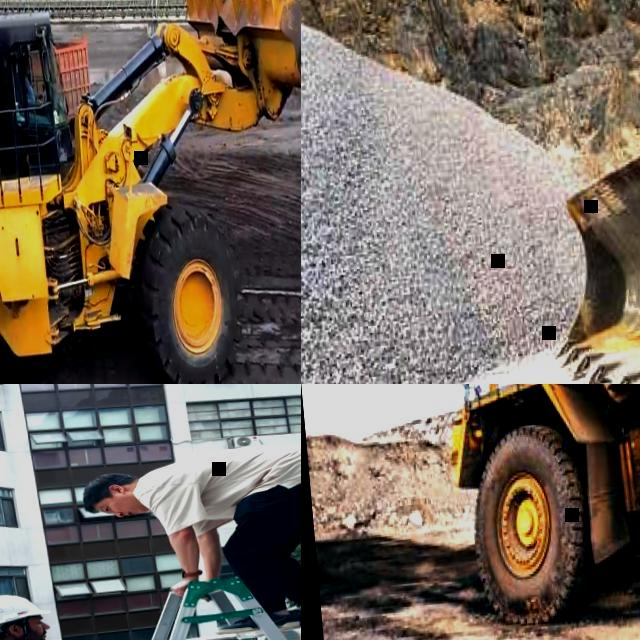helmet: (0, 588, 49, 631)
machinery: (0, 0, 301, 384), (417, 384, 640, 640), (539, 21, 640, 384), (0, 12, 102, 150)
no_helmet: (79, 470, 124, 510), (22, 53, 31, 64)
no_mask: (114, 492, 150, 517), (26, 621, 51, 640), (24, 66, 32, 76)
no_vest: (144, 436, 301, 518), (26, 76, 36, 105)
person: (71, 435, 301, 640), (22, 50, 50, 121)
